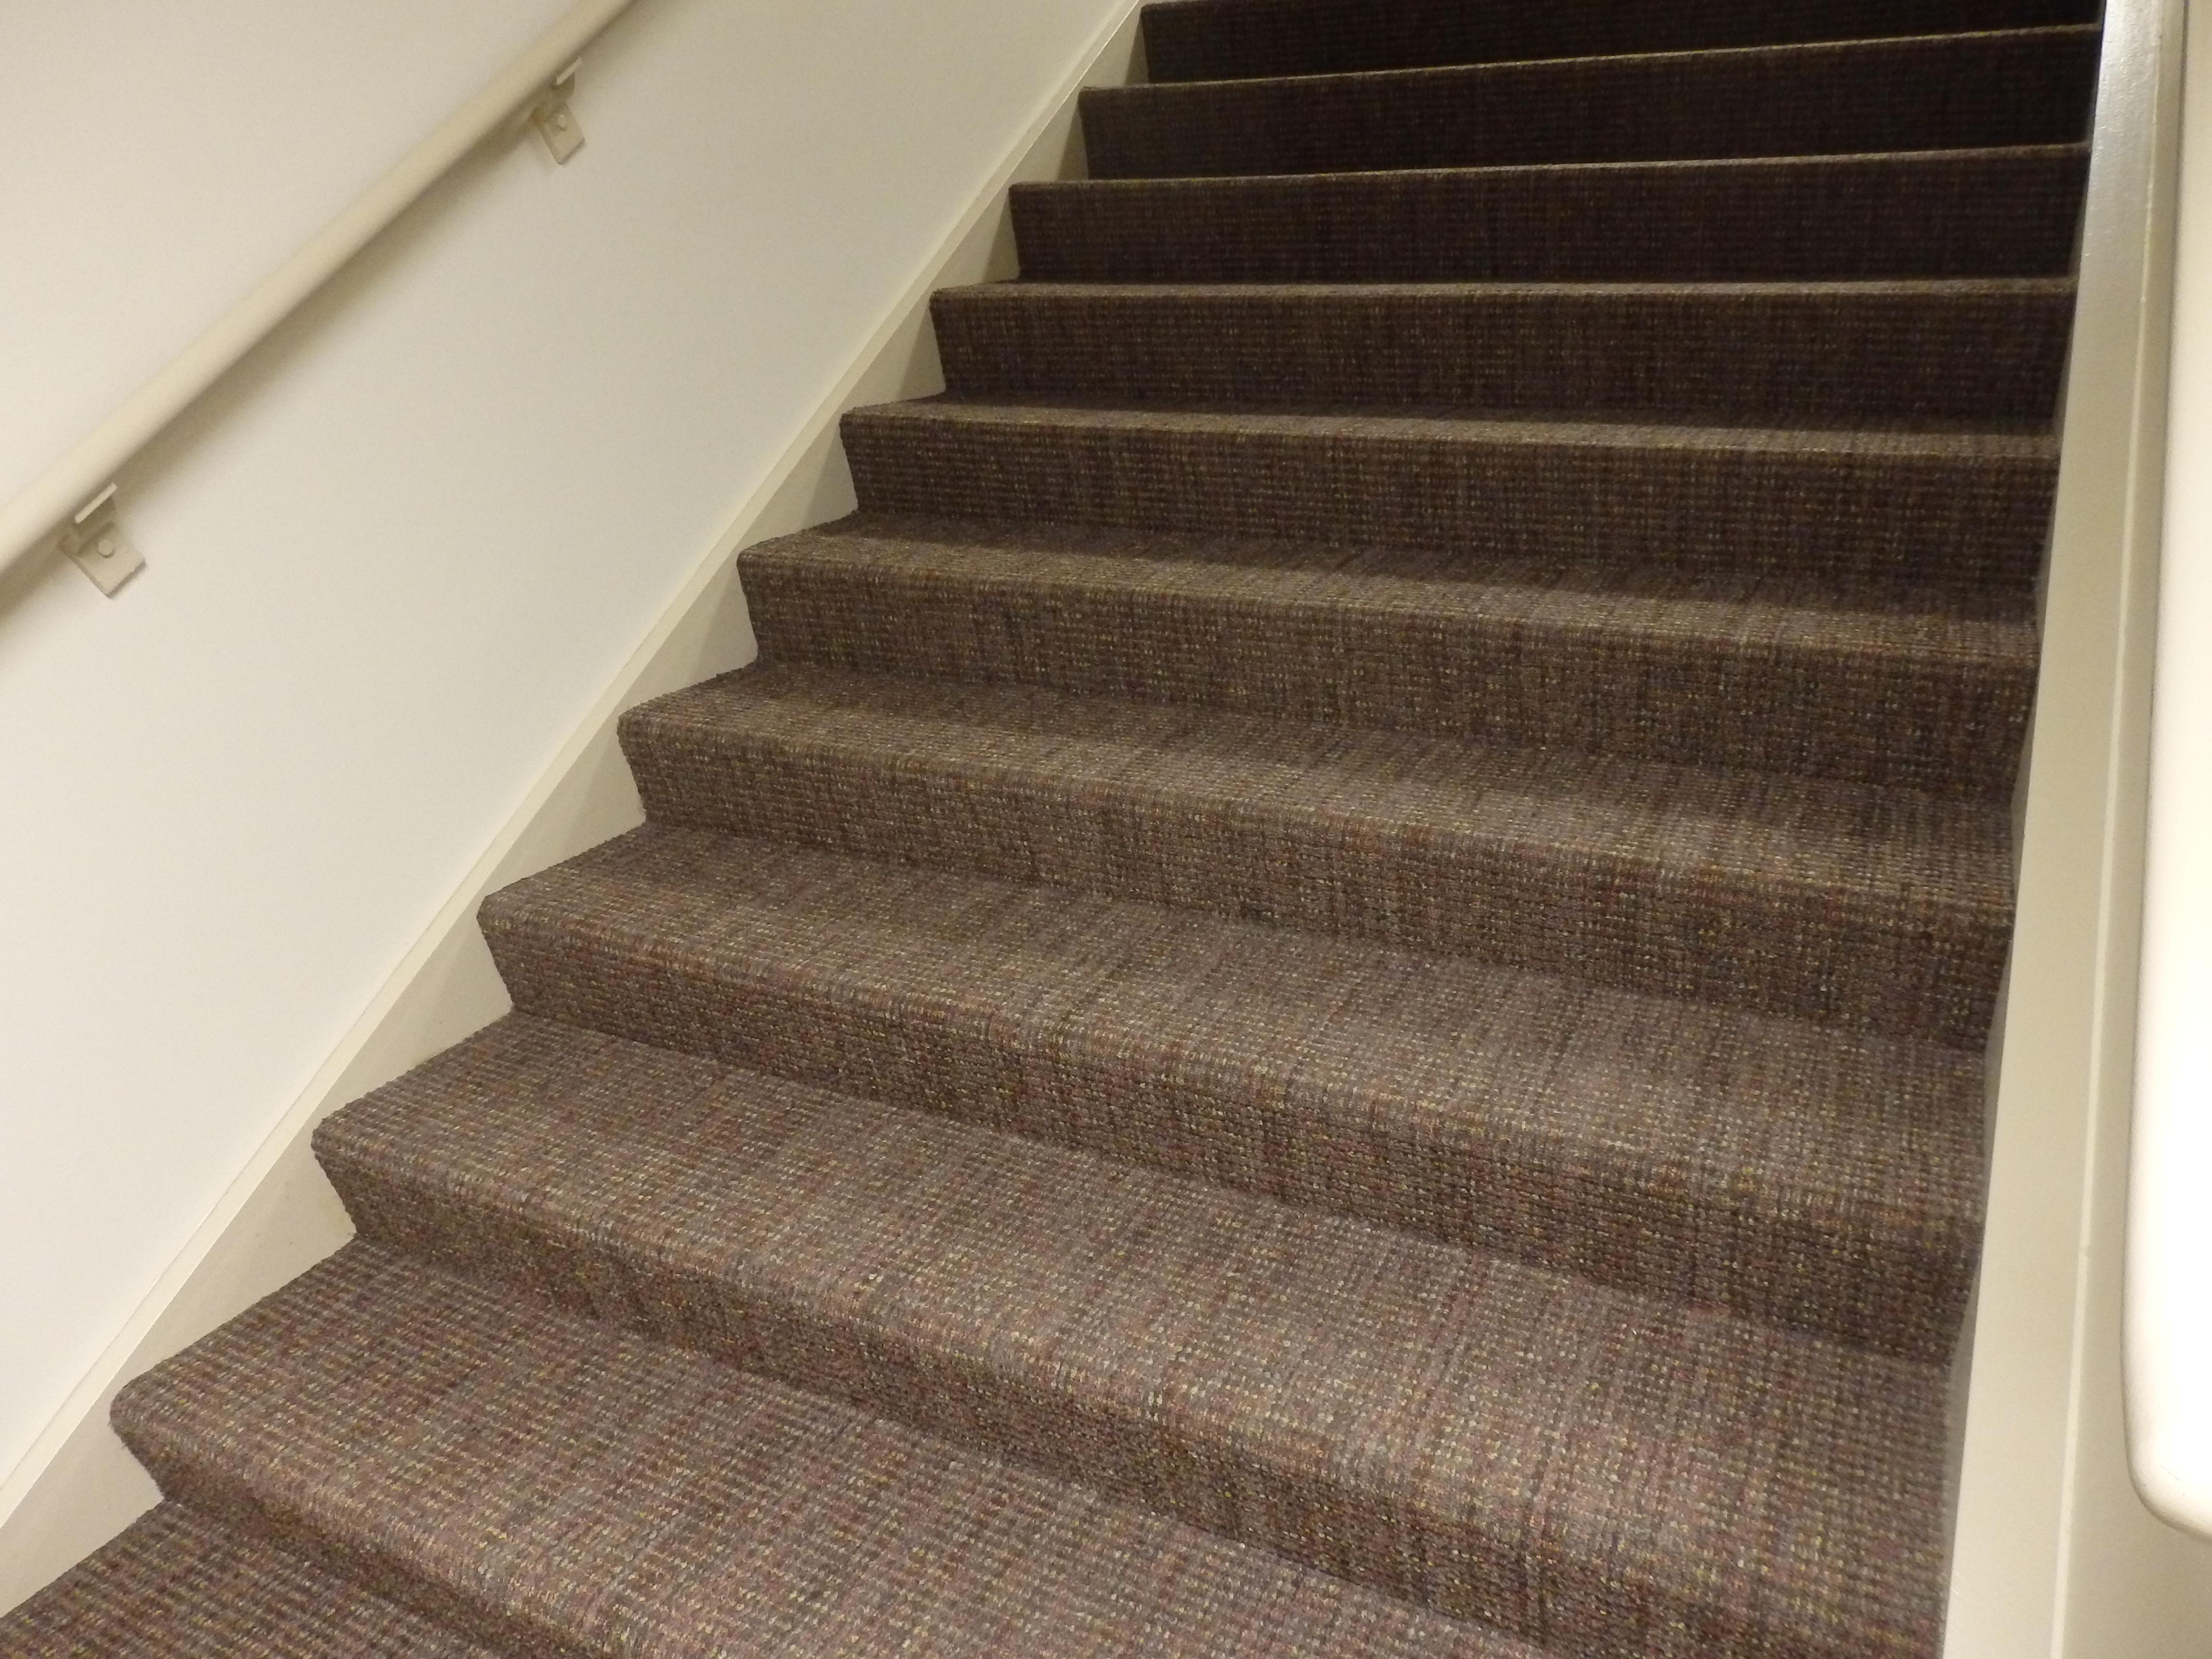stairs_up: (206, 17, 2095, 1617)
